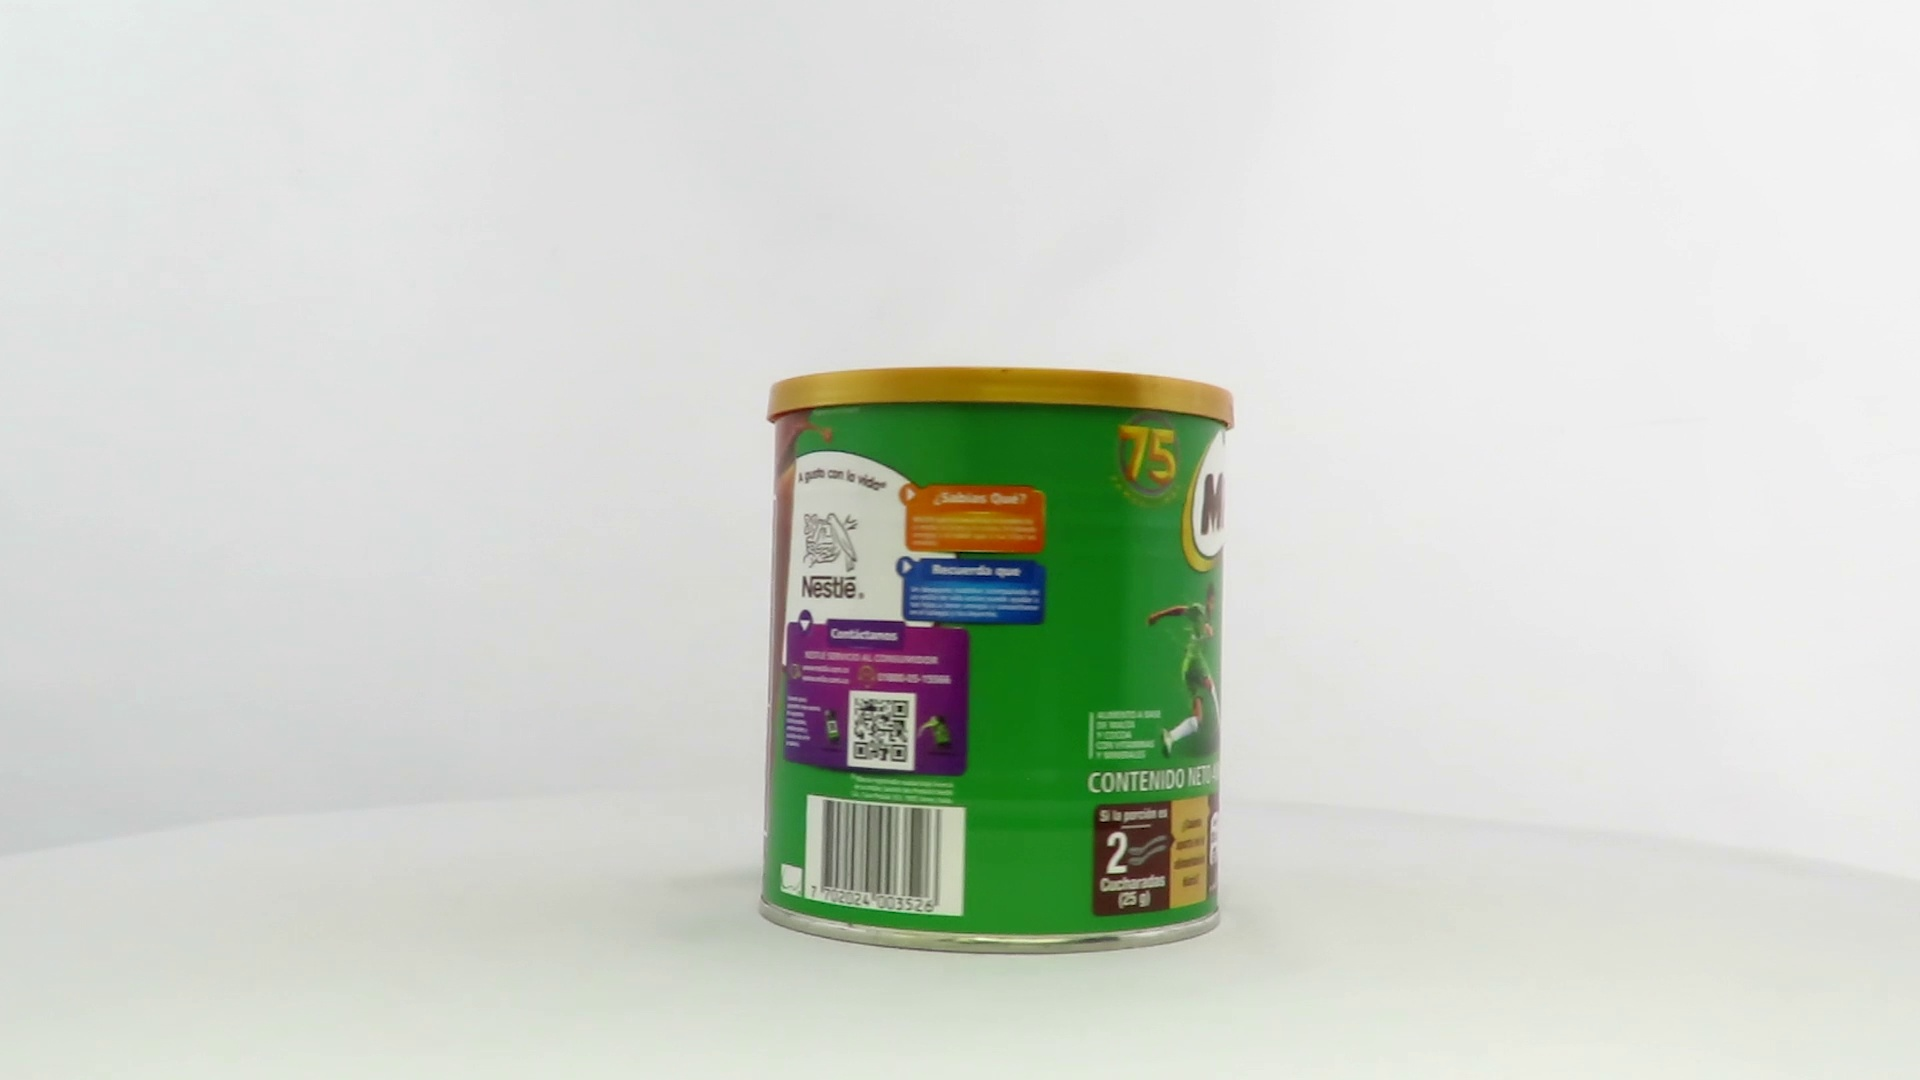COL0170203LAT40000: (753, 361, 1241, 961)
